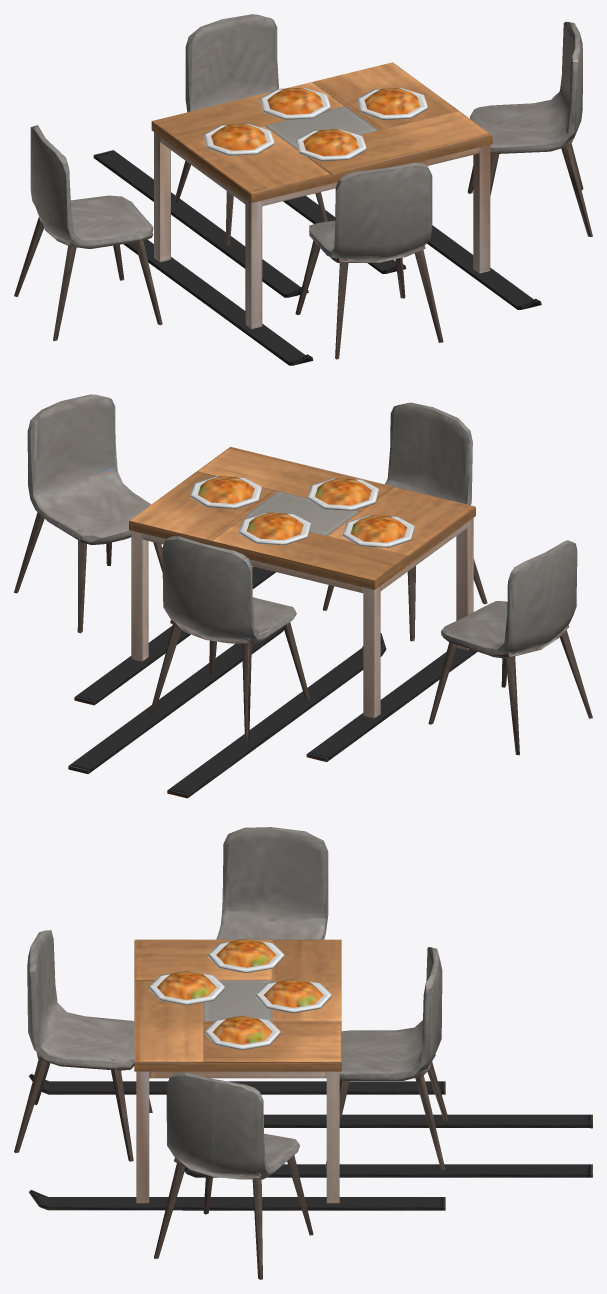
Rendered from Table.fbx.
3 views of the same model, one above another, from view 1: azimuth 30°, elevation 25°; view 2: azimuth 150°, elevation 25°; view 3: azimuth 270°, elevation 25° (orthographic). The views are drawn at different scales.
Visible parts, largest first — view 1: Table; view 2: Table; view 3: Table.
Part boxes in pixels (x1,y1,x2,y2): Table: (14, 14, 592, 365); Table: (14, 394, 592, 798); Table: (14, 827, 592, 1279).
Size of the model in its own units: 319 by 102 by 279.
Materials: 1 (1 with a texture image).
